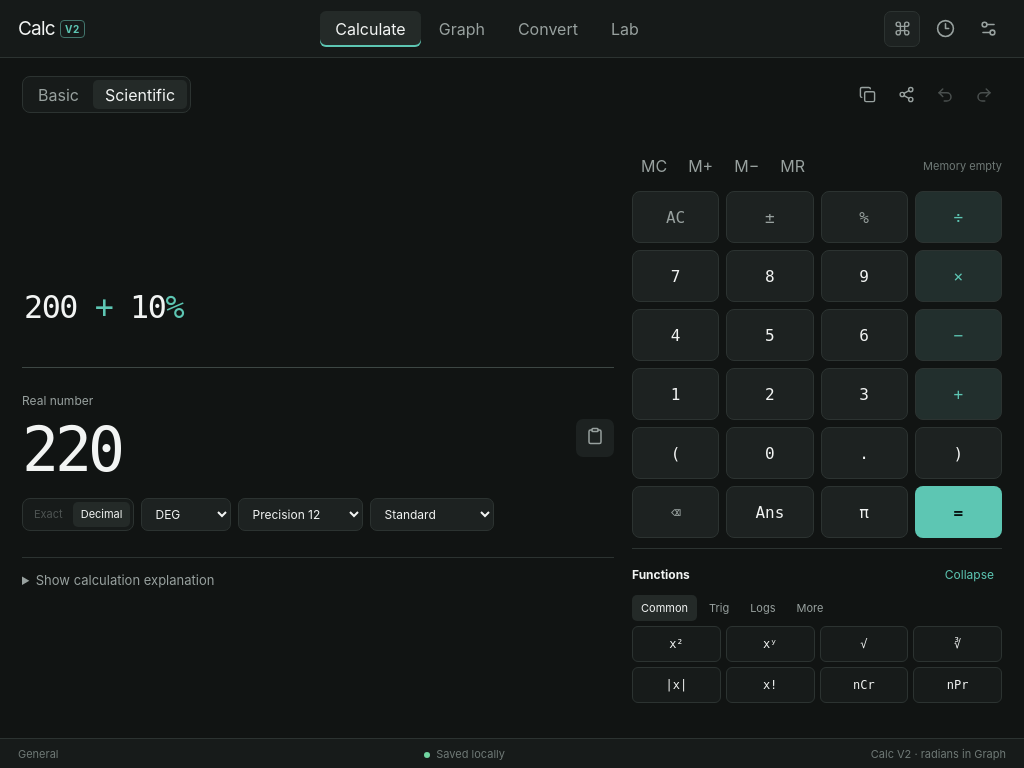
Test: primary application interactions › inserts a keypad key at the current caret
The image size is (1024, 768).
Replace the text in the text box named "Calculation expression" with "12+34": (318, 315) x1=22 y1=264 x2=614 y2=366
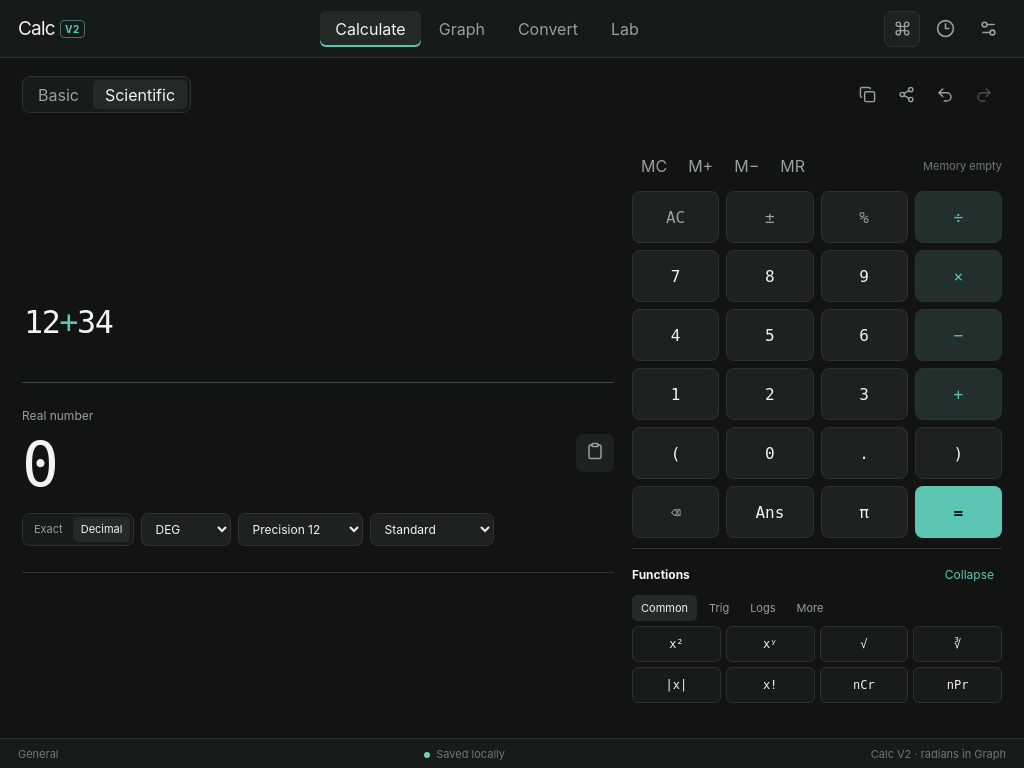
Click the button "9": (864, 276) x1=820 y1=250 x2=908 y2=302
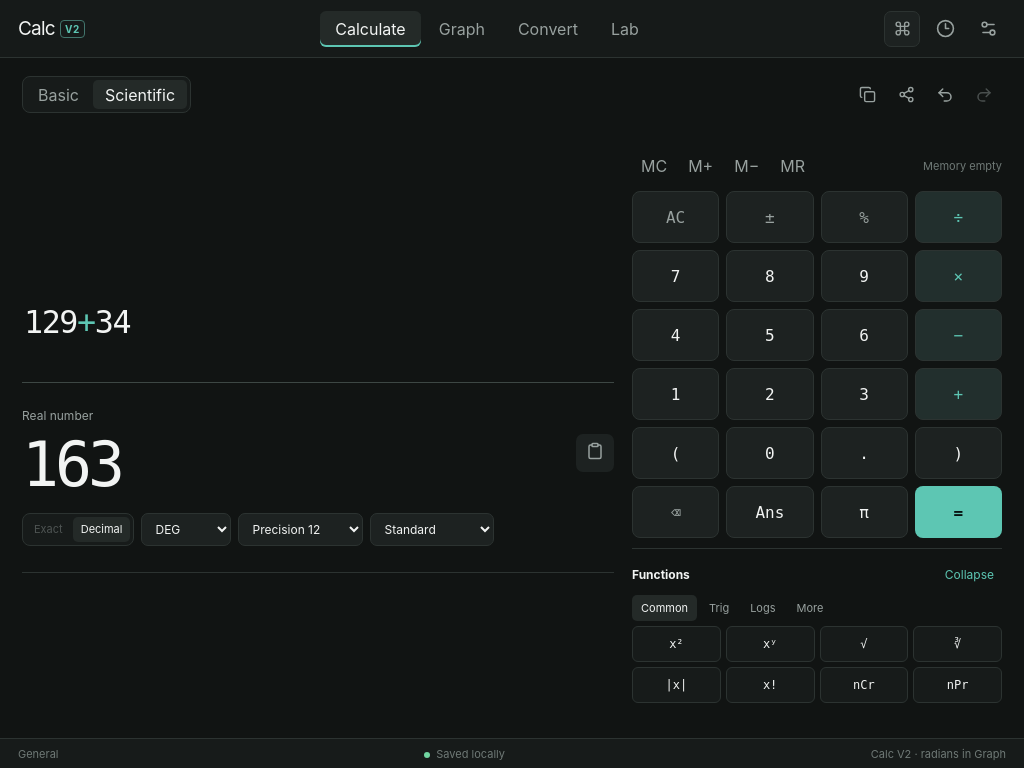
Expected: the text box named "Calculation expression" holds "129+34", x1=22 y1=278 x2=614 y2=382
